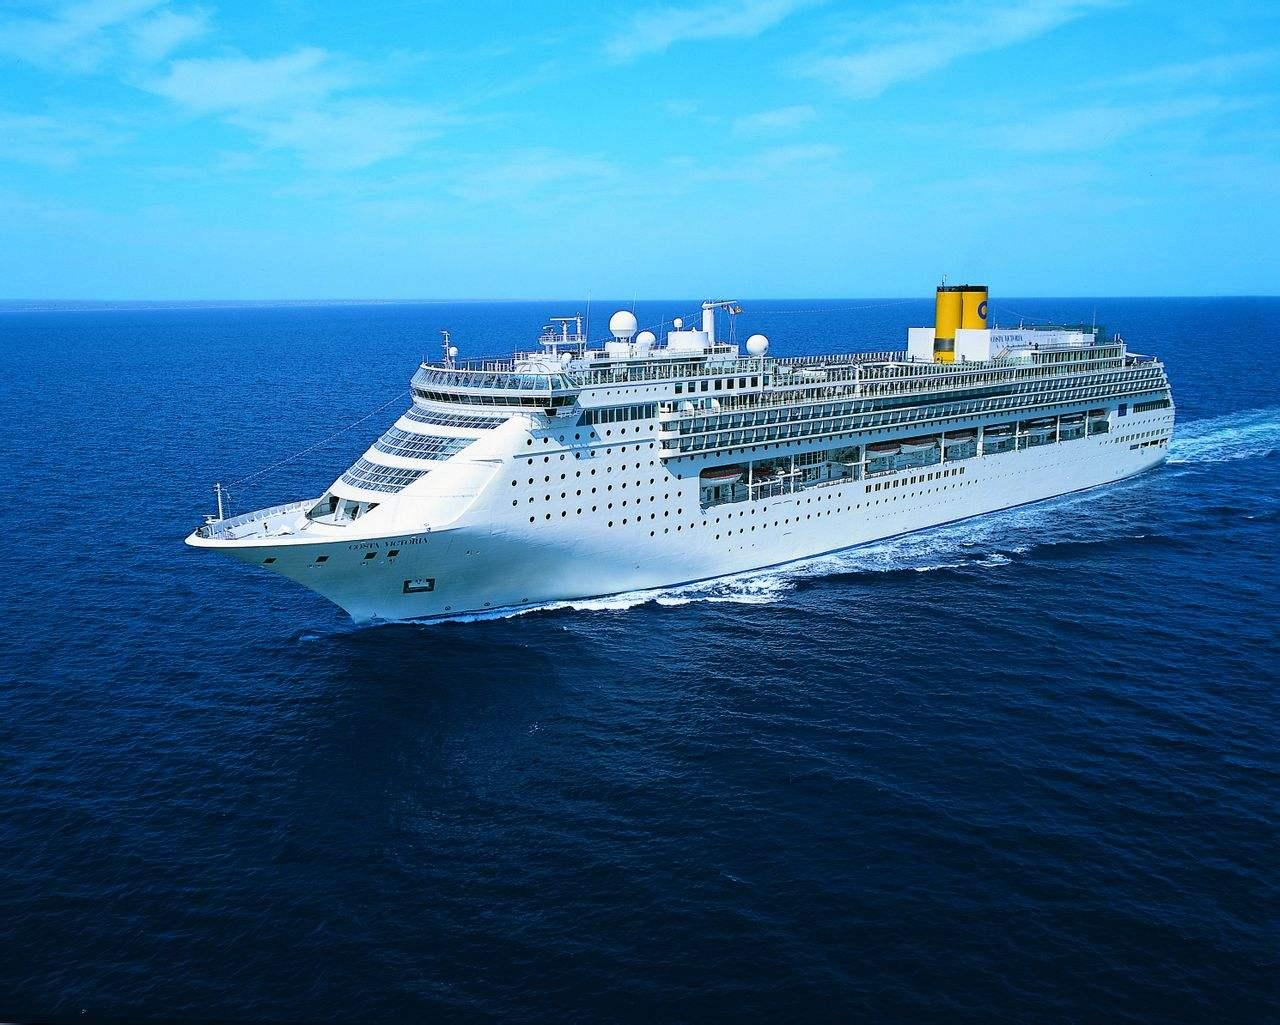youlun: (180, 274, 1178, 629)
